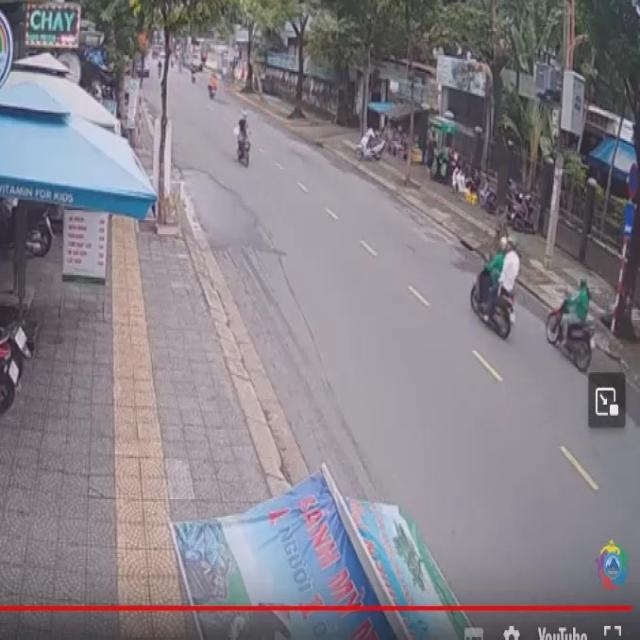motorbike: (546, 274, 597, 374), (469, 239, 518, 343), (234, 110, 251, 165)
